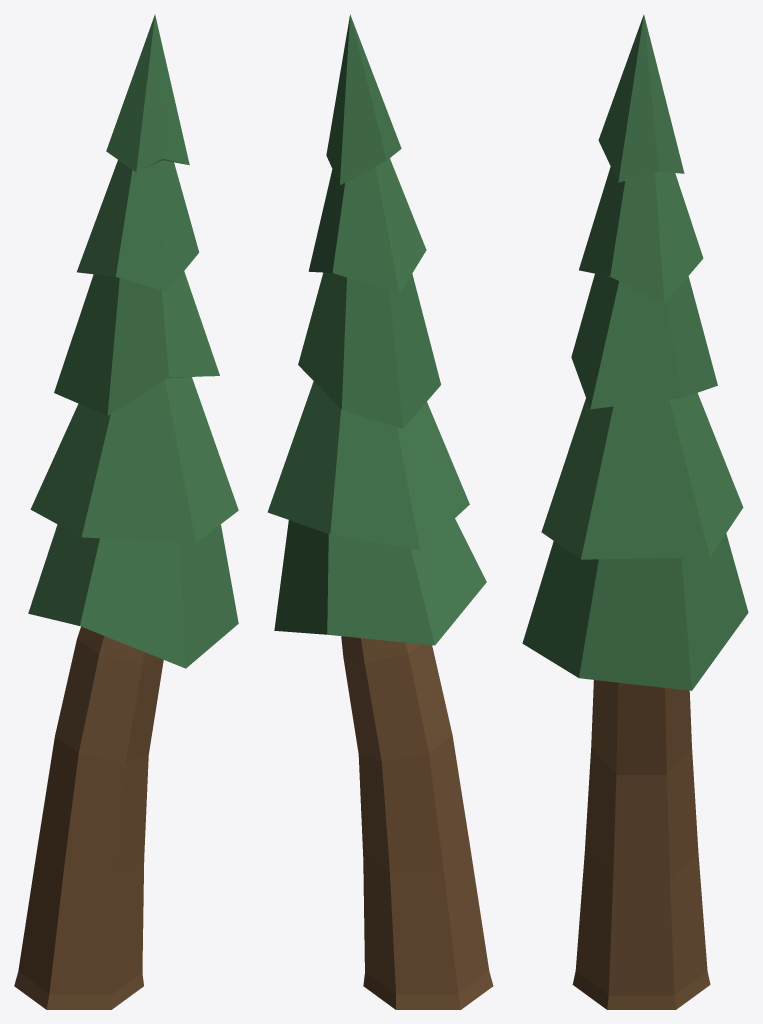
The model's file is Trees 1.fbx.
3 renders of one model, left to right at view 1: azimuth 30°, elevation 25°; view 2: azimuth 150°, elevation 25°; view 3: azimuth 270°, elevation 25°, orthographic. The views are drawn at different scales.
Visible parts, largest first — view 1: Tree 4; view 2: Tree 4; view 3: Tree 4.
Boxes of the visible parts, x1,y1,x2,y2 form: Tree 4: [14, 14, 238, 1009]; Tree 4: [267, 14, 493, 1009]; Tree 4: [522, 14, 748, 1009].
Size of the model in its own units: 246 by 1244 by 252.
